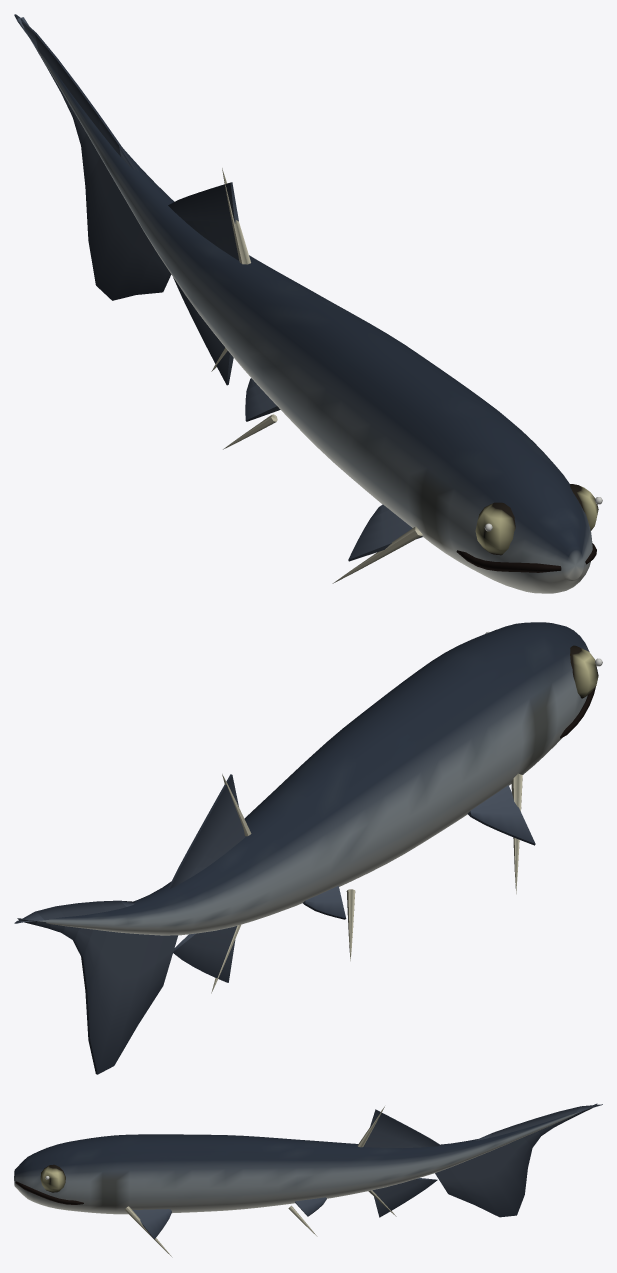
Rendered from Cheiracanthus.fbx.
3 renders of one model, top to bottom at view 1: azimuth 30°, elevation 25°; view 2: azimuth 150°, elevation 25°; view 3: azimuth 270°, elevation 25°, orthographic. The views are drawn at different scales.
Parts seen in each view (by area): view 1: Cheiracanthus; view 2: Cheiracanthus; view 3: Cheiracanthus.
Part boxes in pixels (<box>): Cheiracanthus: <box>14,14,602,593</box>; Cheiracanthus: <box>14,622,602,1074</box>; Cheiracanthus: <box>14,1103,602,1257</box>.
Bounding box in the file's own units: 0.2927 × 0.3707 × 1.52.
